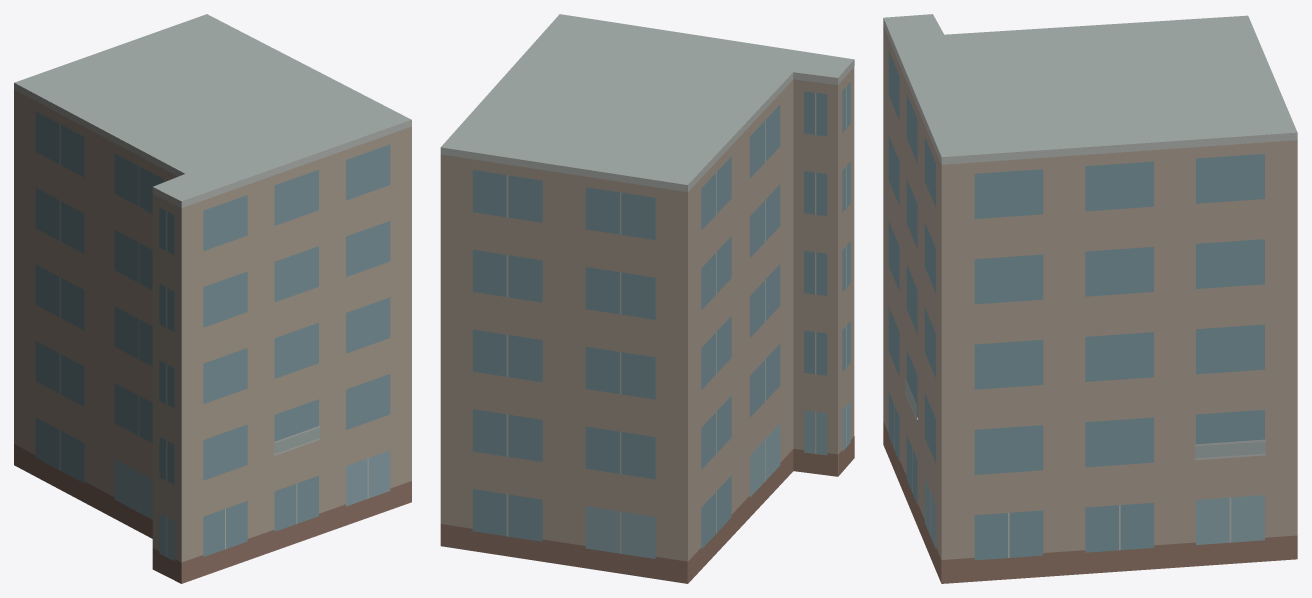
The model's file is survey-upis-32760035.glb.
The picture shows the model from 3 angles, left to right: view 1: azimuth 30°, elevation 25°; view 2: azimuth 150°, elevation 25°; view 3: azimuth 270°, elevation 25°; orthographic projection. The views are drawn at different scales.
Visible parts, largest first — view 1: survey-upis-32760035.tmp; view 2: survey-upis-32760035.tmp; view 3: survey-upis-32760035.tmp.
Part boxes in pixels (box(x1,y1,x2,y2)): survey-upis-32760035.tmp: box(14, 14, 411, 583); survey-upis-32760035.tmp: box(440, 14, 854, 583); survey-upis-32760035.tmp: box(883, 14, 1297, 583).
Size of the model in its own units: 9.95 by 13.8 by 12.16.
